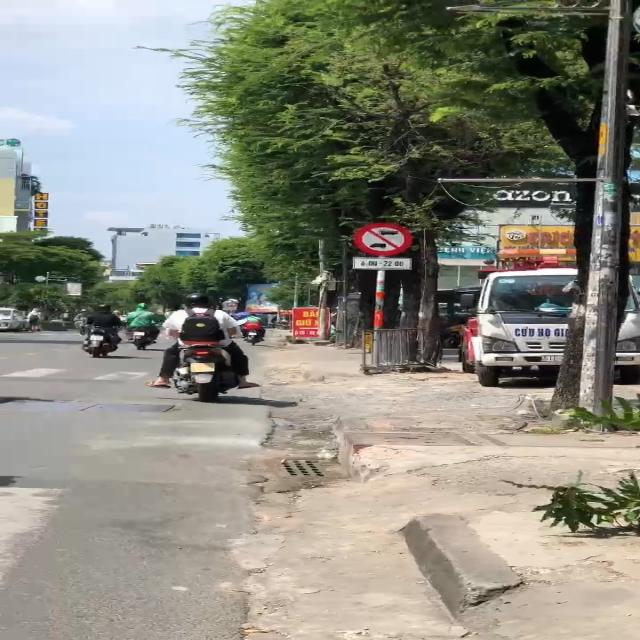Bien bao cam xe oto khach va xe oto tai: (349, 220, 418, 257)
